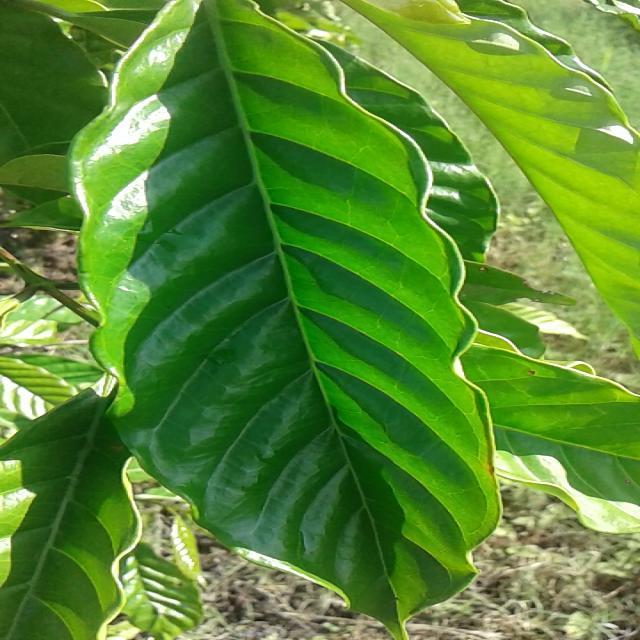Sanas: (68, 0, 513, 640)
